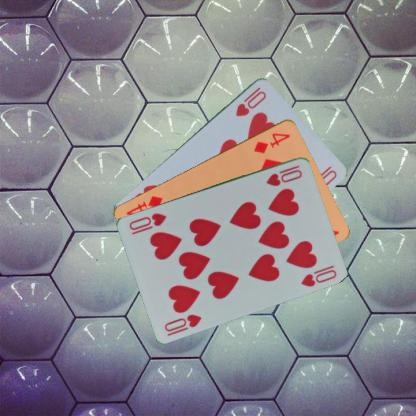10h: (233, 84, 267, 117), (263, 162, 304, 188), (162, 311, 203, 333)
4d: (251, 130, 292, 154)
